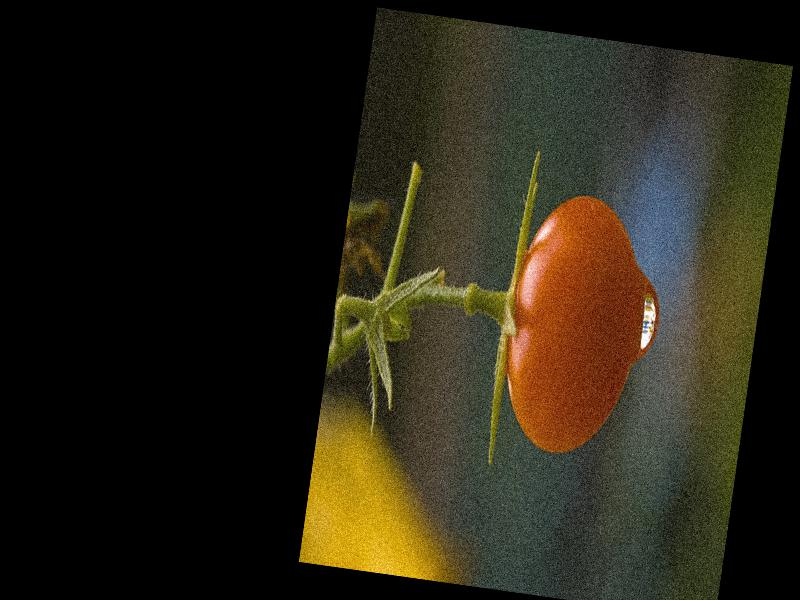Tomato: (492, 185, 655, 460)
